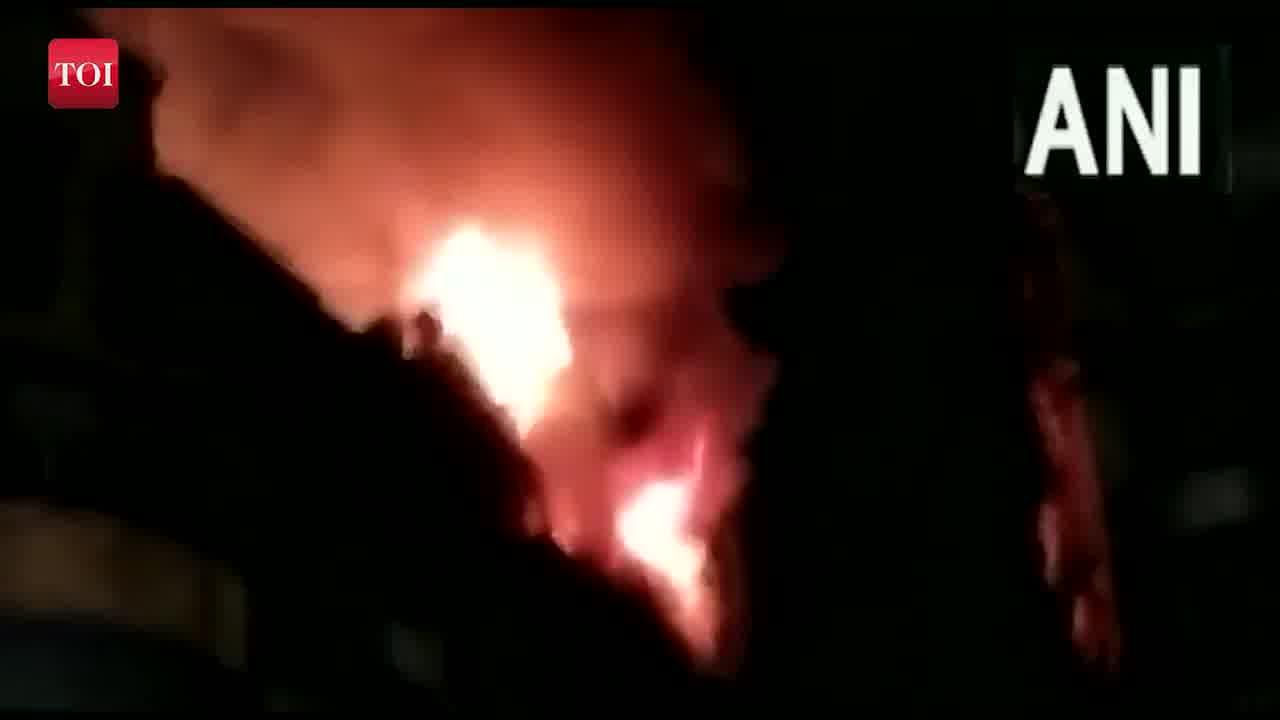fire: (363, 199, 607, 411), (1016, 0, 1279, 180)
